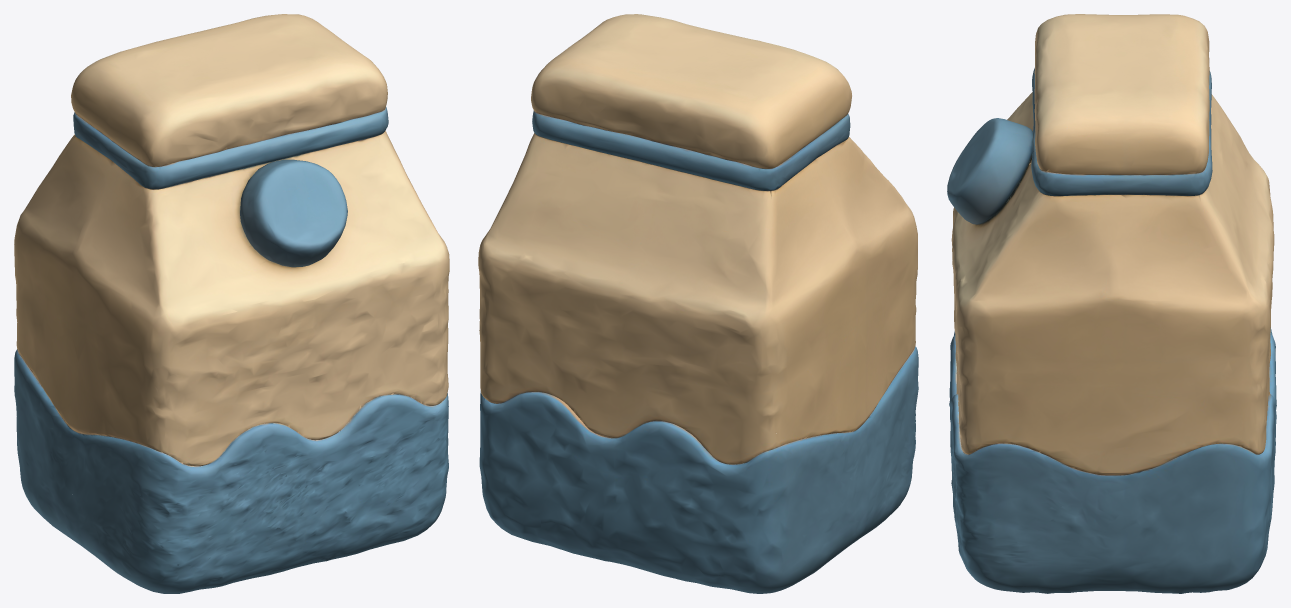
File: milk.glb
The picture shows the model from 3 angles, left to right: view 1: azimuth 30°, elevation 25°; view 2: azimuth 150°, elevation 25°; view 3: azimuth 270°, elevation 25°; orthographic projection.
Size of the model in its own units: 0.713 by 0.9795 by 0.6205.
Materials: 1 (1 with a texture image).
